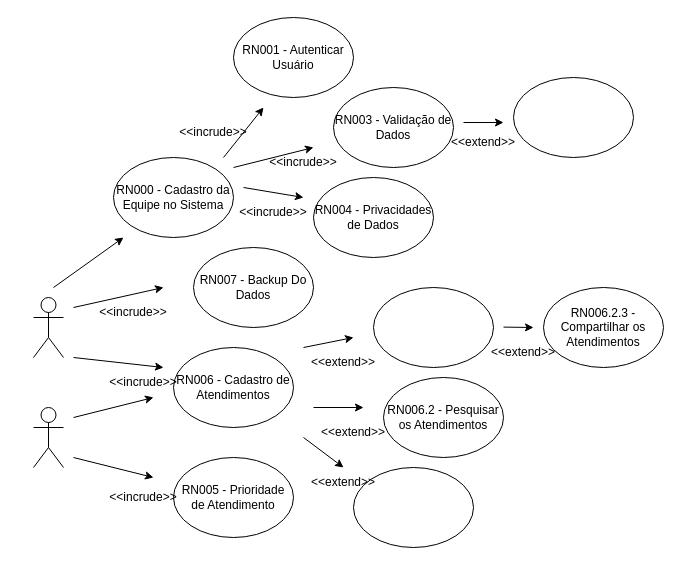
Image size: 681x565. Some labels were removed from this diagram. Each missing label, with the centre of its shape:
"Funcionário" belongs at pixel 48 437.
"Gestor" belongs at pixel 48 327.
"RN003.1 - Excluir Cadastro da Equipe" belongs at pixel 573 117.
"RN006.1 - Exclusão de Atendimentos" belongs at pixel 433 327.
"RN006.3 - Edição de Atendimentos" belongs at pixel 413 507.
